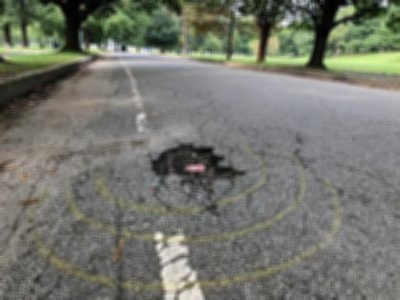pothole: (145, 141, 244, 185)
